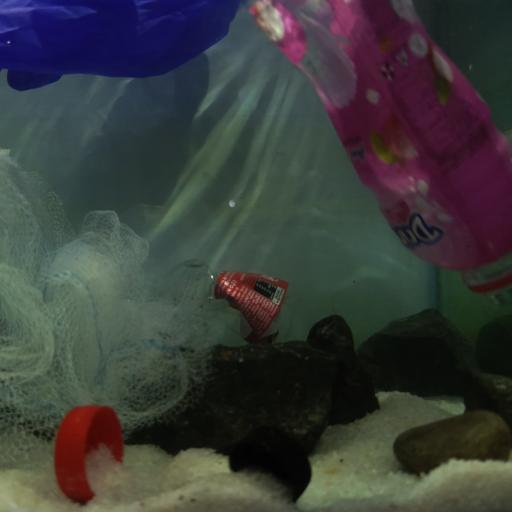bottle_cap: (54, 405, 125, 500), (229, 427, 312, 500)
glove: (0, 0, 246, 92)
net: (0, 148, 217, 453)
plastic_bottle: (248, 0, 512, 310), (167, 256, 334, 343)
